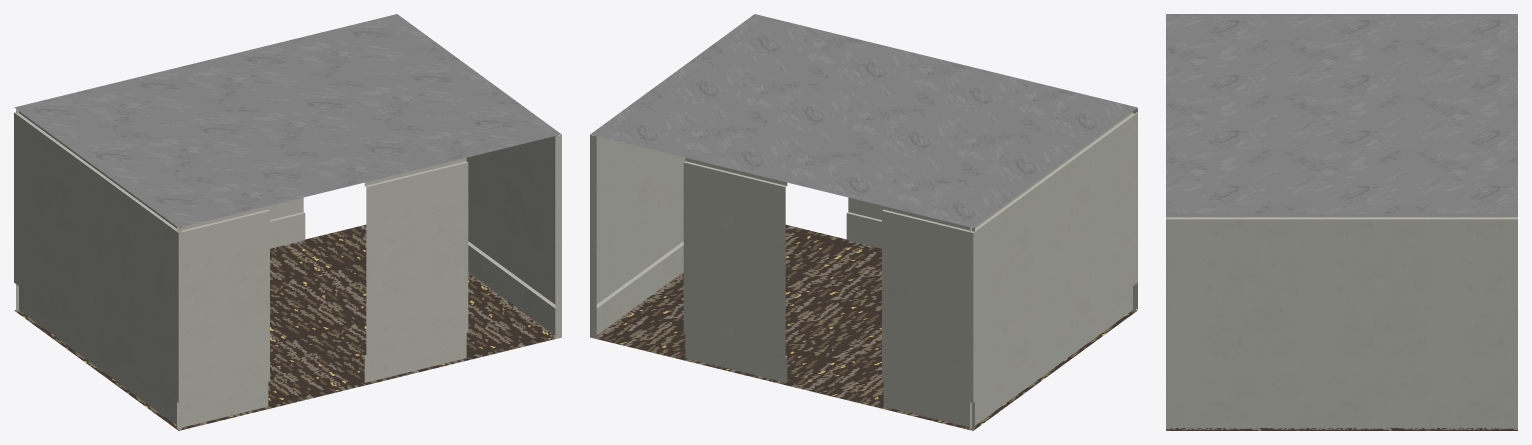
Rendered from office.fbx.
3 views of the same model, side by side, from view 1: azimuth 30°, elevation 25°; view 2: azimuth 150°, elevation 25°; view 3: azimuth 270°, elevation 25° (orthographic). The views are drawn at different scales.
Visible parts, largest first — view 1: office:office_4; view 2: office:office_4; view 3: office:office_4.
Part boxes in pixels (<box>): office:office_4: <box>14,14,561,430</box>; office:office_4: <box>590,14,1137,430</box>; office:office_4: <box>1166,14,1517,430</box>.
Size of the model in its own units: 12.33 by 6.24 by 9.17.
Materials: 3 (3 with a texture image).
